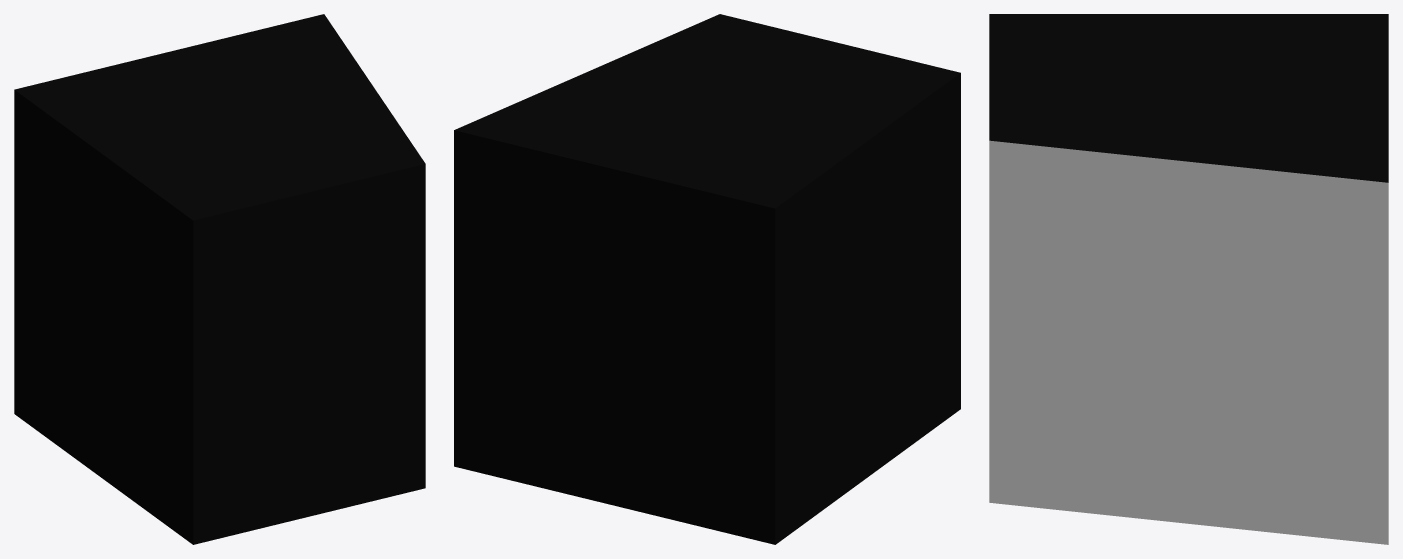
File: r3c4_body_black.glb
The picture shows the model from 3 angles, left to right: view 1: azimuth 30°, elevation 25°; view 2: azimuth 150°, elevation 25°; view 3: azimuth 270°, elevation 25°; orthographic projection. The views are drawn at different scales.
Parts seen in each view (by area): view 1: r3c4_body_black; view 2: r3c4_body_black; view 3: r3c4_body_black.
Boxes of the visible parts, x1,y1,x2,y2 form: r3c4_body_black: [14, 14, 425, 544]; r3c4_body_black: [454, 14, 960, 544]; r3c4_body_black: [989, 14, 1388, 544].
Size of what is drawn, in the model's own units: 2 by 2 by 2.
Materials: 1 (1 with a texture image).
